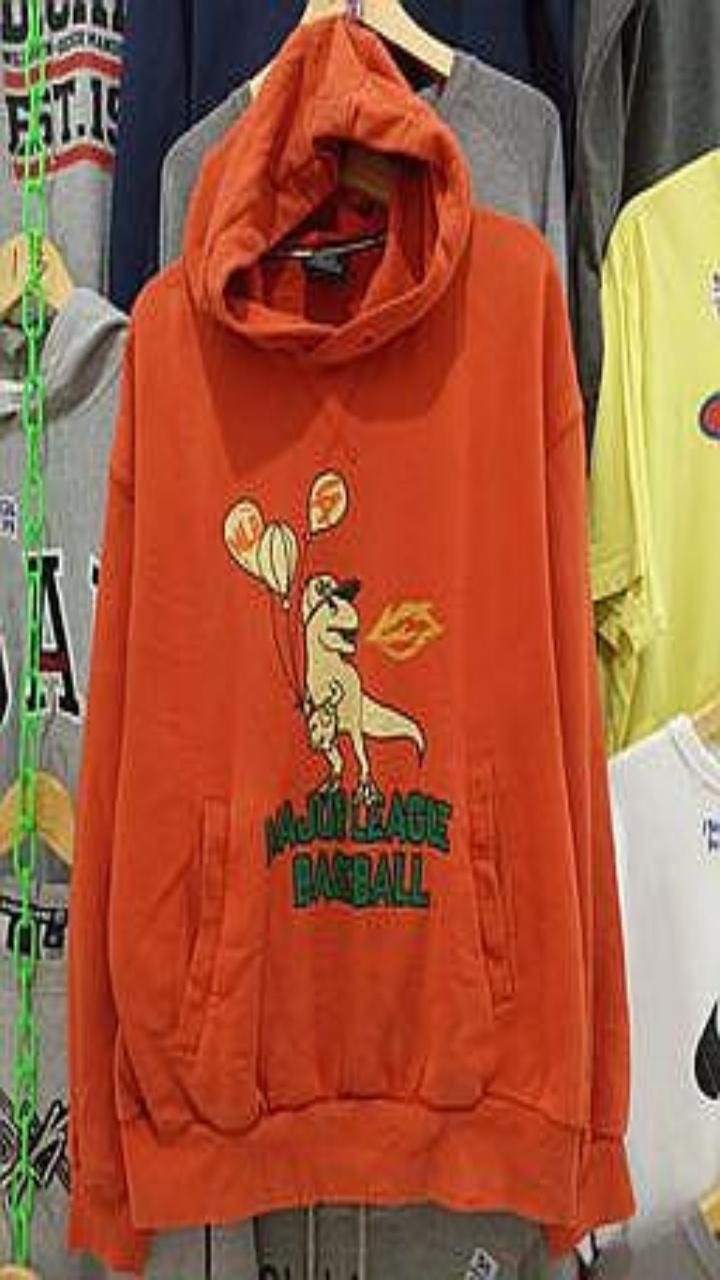Hoodie: (71, 21, 631, 1264), (37, 288, 126, 799)
T-Shirt: (591, 151, 719, 751), (611, 716, 719, 1251), (29, 885, 121, 1279), (423, 51, 566, 278), (591, 1211, 719, 1279)
